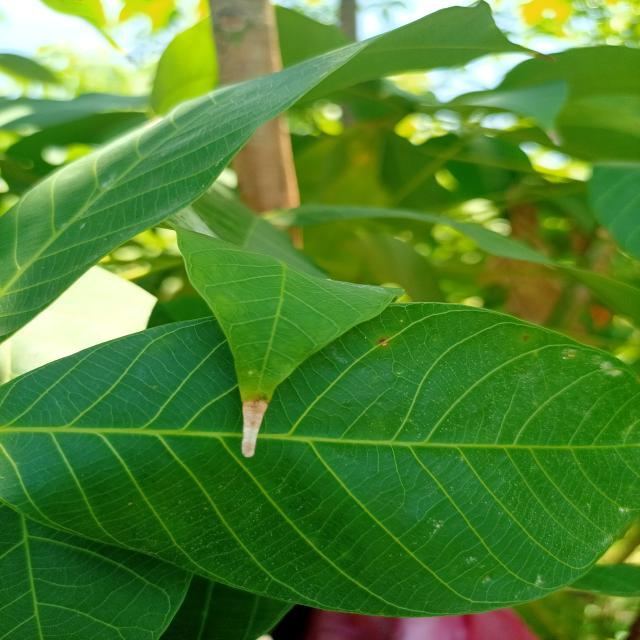Leaf-Blight: (240, 400, 267, 458)
